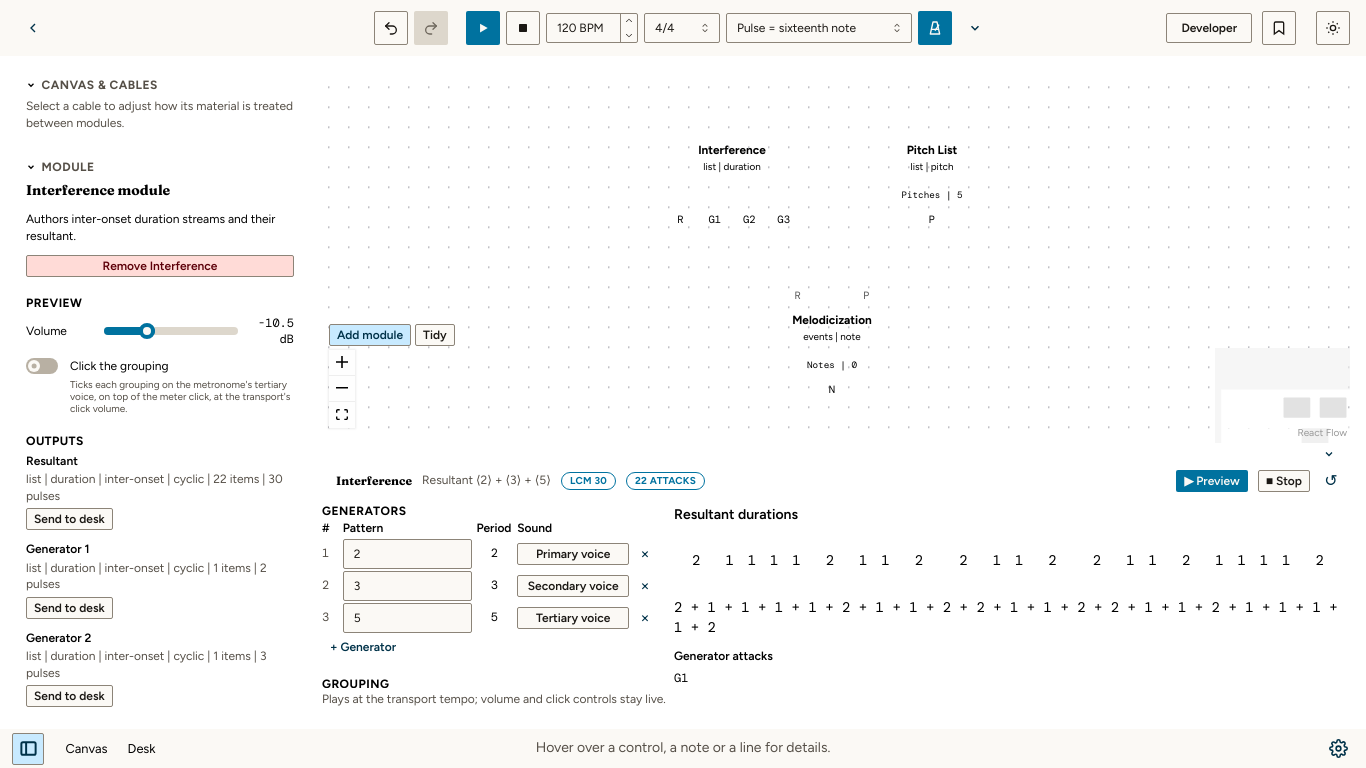
it: CompositionWorkbenchPage › supports adding another authored generator list
Click the button "+ Generator" at [363, 647], box [322,636,404,658]
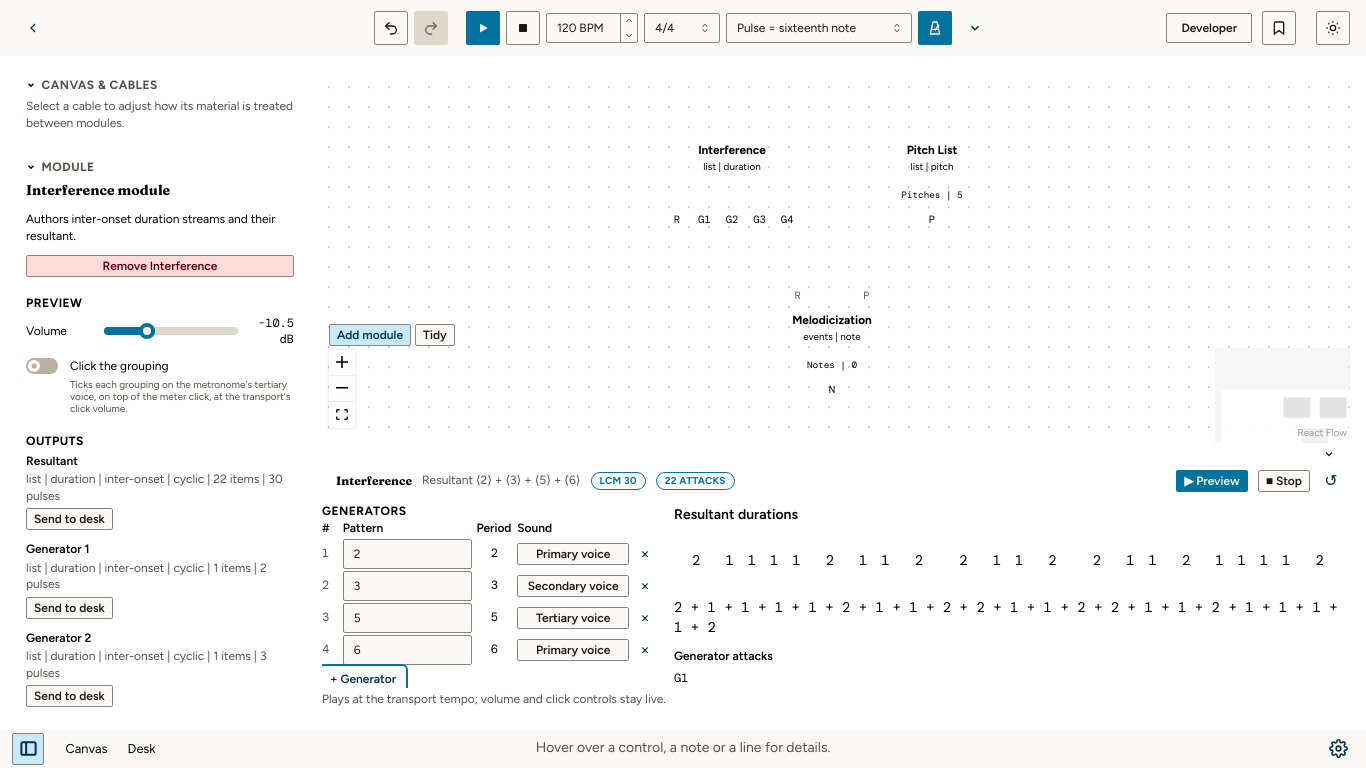
Expected: the field named "Generator 4 pattern" holds "6", [343,635,472,665]
Expected: the button named "Remove Generator 4" is enabled, [634,639,656,661]
